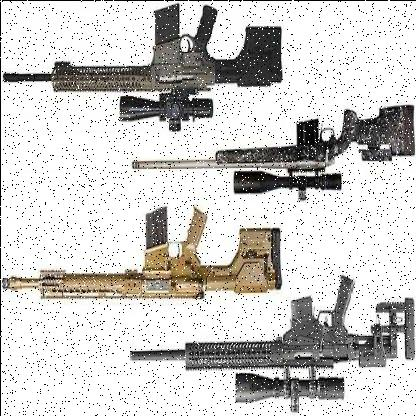rifle: (108, 280, 415, 416), (1, 1, 288, 130), (114, 93, 416, 206), (0, 216, 293, 308)
